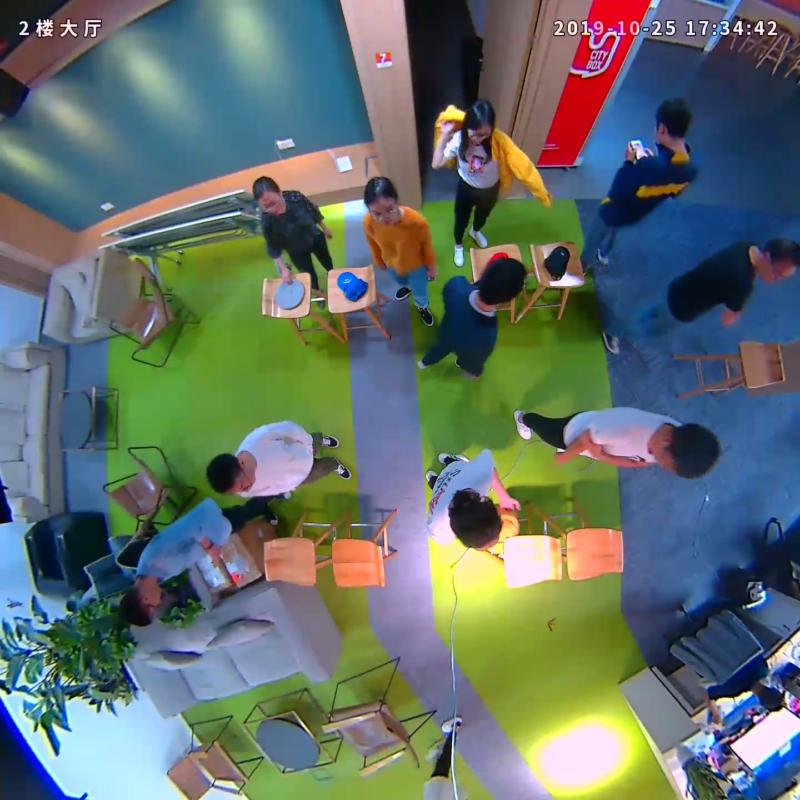head: (652, 417, 725, 483), (443, 487, 506, 556), (474, 253, 531, 312), (357, 173, 410, 232), (646, 94, 701, 149), (201, 447, 254, 503), (115, 574, 164, 631), (247, 171, 293, 220), (754, 236, 800, 285), (459, 96, 500, 147)
